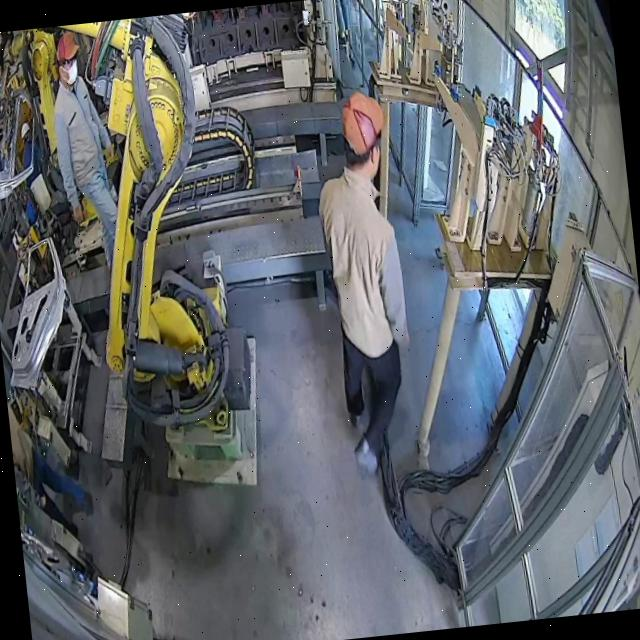Person: (306, 88, 424, 478), (44, 27, 126, 276), (6, 383, 95, 531), (335, 0, 360, 44)
